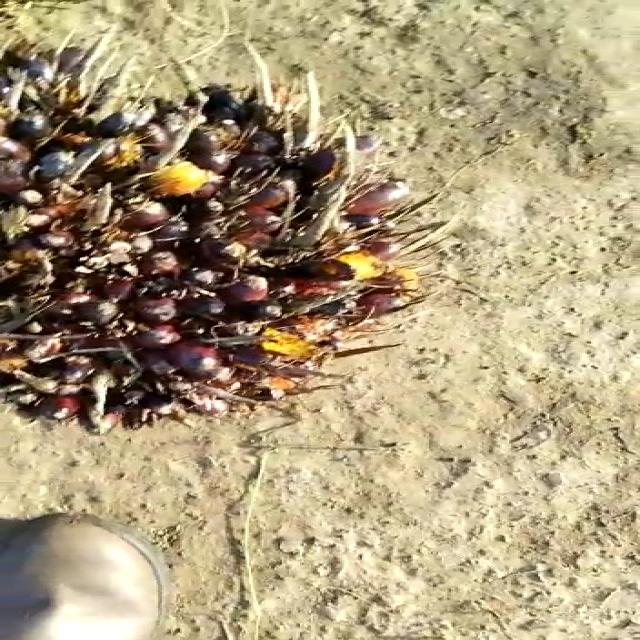palm oil: (0, 30, 431, 447)
